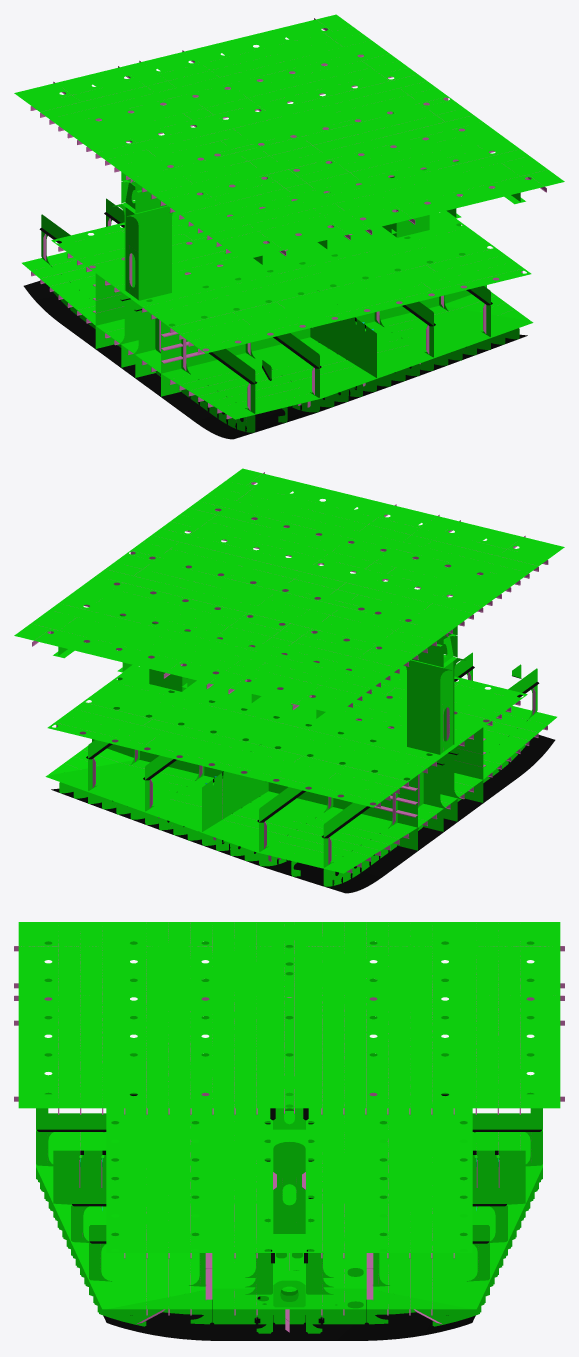
3 views of the same model, one above another, from view 1: azimuth 30°, elevation 25°; view 2: azimuth 150°, elevation 25°; view 3: azimuth 270°, elevation 25° (orthographic). The views are drawn at different scales.
Visible parts, largest first — view 1: HPLATE idsp 2010 of HPANEL /F201_DK3, HPLATE idsp 2001 of HPANEL /F201_DK2_01, HPLATE idsp 2008 of HPANEL /F201_DK2_01, HPLATE idsp 2005 of HPANEL /F201_DK2_01, HPLATE idsp 2007 of HPANEL /F201_DK2_01, HPLATE idsp 2014 of HPANEL /F201_DK2_01, HPLATE idsp 2016 of HPANEL /F201_DK2_01, HPLATE idsp 2015 of HPANEL /F201_DK2_01, HPLATE idsp 2017 of HPANEL /F201_DK2_01, HPLATE idsp 2004 of HPANEL /F201_DK3, HPLATE idsp 2002 of HPANEL /F201_DK3, HPLATE idsp 2005 of HPANEL /F201_DK3 (+37 smaller); view 2: HPLATE idsp 2006 of HPANEL /F201_DK3, HPLATE idsp 2001 of HPANEL /F201_DK2_01, HPLATE idsp 2008 of HPANEL /F201_DK2_01, HPLATE idsp 2005 of HPANEL /F201_DK2_01, HPLATE idsp 2007 of HPANEL /F201_DK2_01, HPLATE idsp 2016 of HPANEL /F201_DK2_01, HPLATE idsp 2014 of HPANEL /F201_DK2_01, HPLATE idsp 2015 of HPANEL /F201_DK2_01, HPLATE idsp 2017 of HPANEL /F201_DK2_01, HPLATE idsp 2003 of HPANEL /F201_DK3, HPLATE idsp 2002 of HPANEL /F201_DK3, HPLATE idsp 2001 of HPANEL /F201_DK3 (+38 smaller); view 3: HPLATE idsp 2006 of HPANEL /F201_DK3, HPLATE idsp 2010 of HPANEL /F201_DK3, HPLATE idsp 2001 of HPANEL /F201_DK2_01, HPLATE idsp 2008 of HPANEL /F201_DK2_01, HPLATE idsp 2005 of HPANEL /F201_DK2_01, HPLATE idsp 2007 of HPANEL /F201_DK2_01, HPLATE idsp 2014 of HPANEL /F201_DK2_01, HPLATE idsp 2016 of HPANEL /F201_DK2_01, HPLATE idsp 2015 of HPANEL /F201_DK2_01, HPLATE idsp 2017 of HPANEL /F201_DK2_01, HPLATE idsp 2003 of HPANEL /F201_DK3, HPLATE idsp 2004 of HPANEL /F201_DK3 (+50 smaller).
Part boxes in pixels (box(x1,y1,x2,y2)): HPLATE idsp 2010 of HPANEL /F201_DK3: box(267, 249, 531, 330); HPLATE idsp 2001 of HPANEL /F201_DK2_01: box(14, 35, 281, 114); HPLATE idsp 2008 of HPANEL /F201_DK2_01: box(213, 181, 480, 260); HPLATE idsp 2005 of HPANEL /F201_DK2_01: box(43, 56, 309, 135); HPLATE idsp 2007 of HPANEL /F201_DK2_01: box(185, 160, 451, 238); HPLATE idsp 2014 of HPANEL /F201_DK2_01: box(194, 77, 450, 153); HPLATE idsp 2016 of HPANEL /F201_DK2_01: box(222, 98, 478, 174); HPLATE idsp 2015 of HPANEL /F201_DK2_01: box(165, 56, 421, 132); HPLATE idsp 2017 of HPANEL /F201_DK2_01: box(251, 119, 506, 195); HPLATE idsp 2004 of HPANEL /F201_DK3: box(145, 251, 410, 328); HPLATE idsp 2002 of HPANEL /F201_DK3: box(111, 232, 384, 309); HPLATE idsp 2005 of HPANEL /F201_DK3: box(171, 305, 300, 353); HPLATE idsp 2006 of HPANEL /F201_DK3: box(47, 703, 311, 784); HPLATE idsp 2001 of HPANEL /F201_DK2_01: box(98, 635, 365, 714); HPLATE idsp 2008 of HPANEL /F201_DK2_01: box(297, 489, 564, 568); HPLATE idsp 2005 of HPANEL /F201_DK2_01: box(127, 614, 393, 692); HPLATE idsp 2007 of HPANEL /F201_DK2_01: box(269, 510, 535, 589); HPLATE idsp 2016 of HPANEL /F201_DK2_01: box(128, 531, 384, 607); HPLATE idsp 2014 of HPANEL /F201_DK2_01: box(100, 552, 356, 628); HPLATE idsp 2015 of HPANEL /F201_DK2_01: box(72, 573, 327, 649); HPLATE idsp 2017 of HPANEL /F201_DK2_01: box(157, 510, 413, 586); HPLATE idsp 2003 of HPANEL /F201_DK3: box(168, 705, 433, 782); HPLATE idsp 2002 of HPANEL /F201_DK3: box(194, 686, 467, 763); HPLATE idsp 2001 of HPANEL /F201_DK3: box(278, 759, 407, 807); HPLATE idsp 2006 of HPANEL /F201_DK3: box(391, 1119, 472, 1252); HPLATE idsp 2010 of HPANEL /F201_DK3: box(106, 1119, 187, 1252); HPLATE idsp 2001 of HPANEL /F201_DK2_01: box(491, 922, 560, 1059); HPLATE idsp 2008 of HPANEL /F201_DK2_01: box(18, 922, 87, 1059); HPLATE idsp 2005 of HPANEL /F201_DK2_01: box(424, 922, 490, 1059); HPLATE idsp 2007 of HPANEL /F201_DK2_01: box(88, 922, 154, 1059); HPLATE idsp 2014 of HPANEL /F201_DK2_01: box(289, 976, 356, 1108); HPLATE idsp 2016 of HPANEL /F201_DK2_01: box(222, 976, 289, 1108); HPLATE idsp 2015 of HPANEL /F201_DK2_01: box(356, 976, 423, 1108); HPLATE idsp 2017 of HPANEL /F201_DK2_01: box(155, 976, 222, 1108); HPLATE idsp 2003 of HPANEL /F201_DK3: box(330, 1072, 391, 1202); HPLATE idsp 2004 of HPANEL /F201_DK3: box(187, 1072, 248, 1202).
Bounding box in the file's own units: 16.63 × 9.32 × 20.
